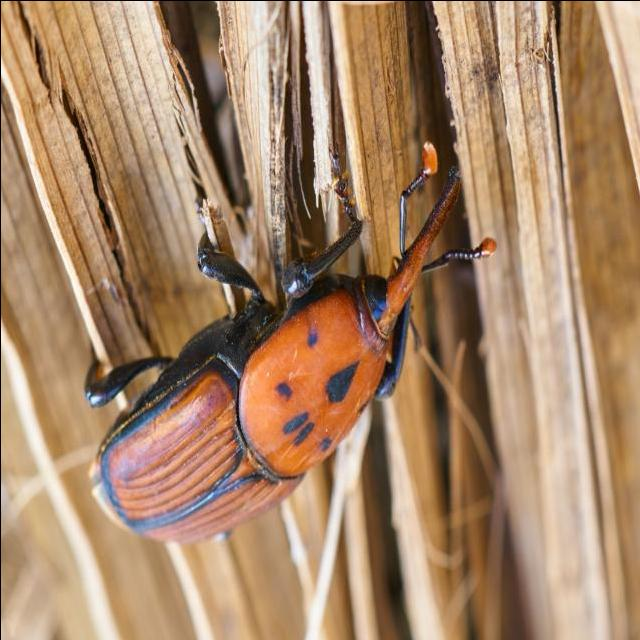Red-palm-weevil: (97, 134, 497, 557)
